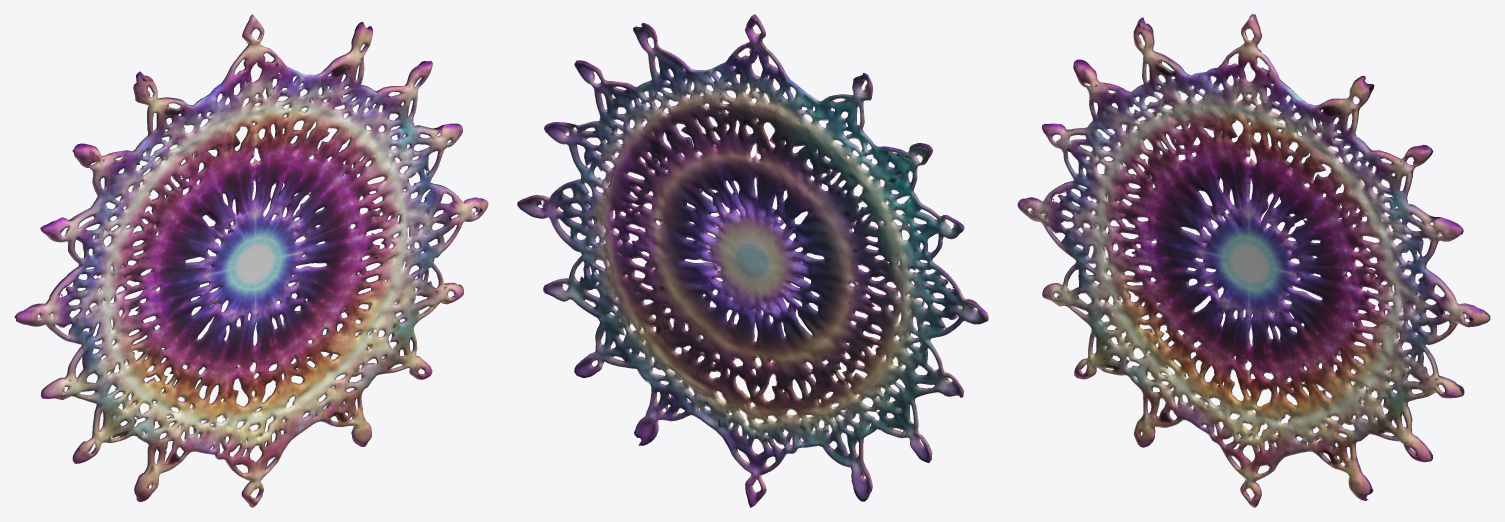
File: chakra.glb
The picture shows the model from 3 angles, left to right: view 1: azimuth 30°, elevation 25°; view 2: azimuth 150°, elevation 25°; view 3: azimuth 330°, elevation 25°; orthographic projection.
Size of the model in its own units: 2 by 2 by 0.0609.
1 material, 1 textured.
